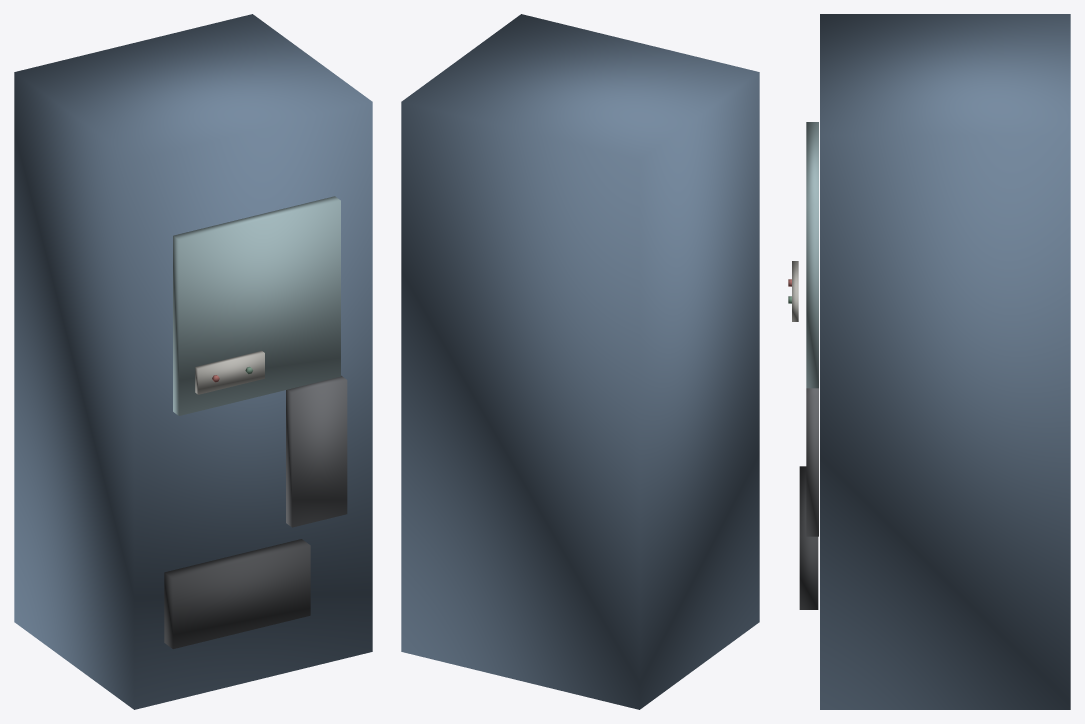
Rendered from drink_vending_machine.glb.
3 views of the same model, side by side, from view 1: azimuth 30°, elevation 25°; view 2: azimuth 150°, elevation 25°; view 3: azimuth 270°, elevation 25° (orthographic). The views are drawn at different scales.
Visible parts, largest first — view 1: world; view 2: world; view 3: world.
Boxes of the visible parts, x1,y1,x2,y2 form: world: (14, 14, 372, 709); world: (401, 14, 759, 709); world: (788, 14, 1070, 709).
Size of the model in its own units: 0.78 by 1.72 by 0.766.
